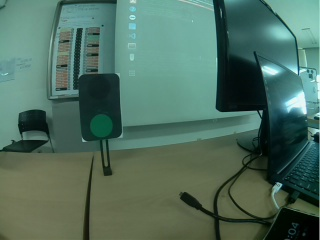green_light: (76, 71, 122, 142)
